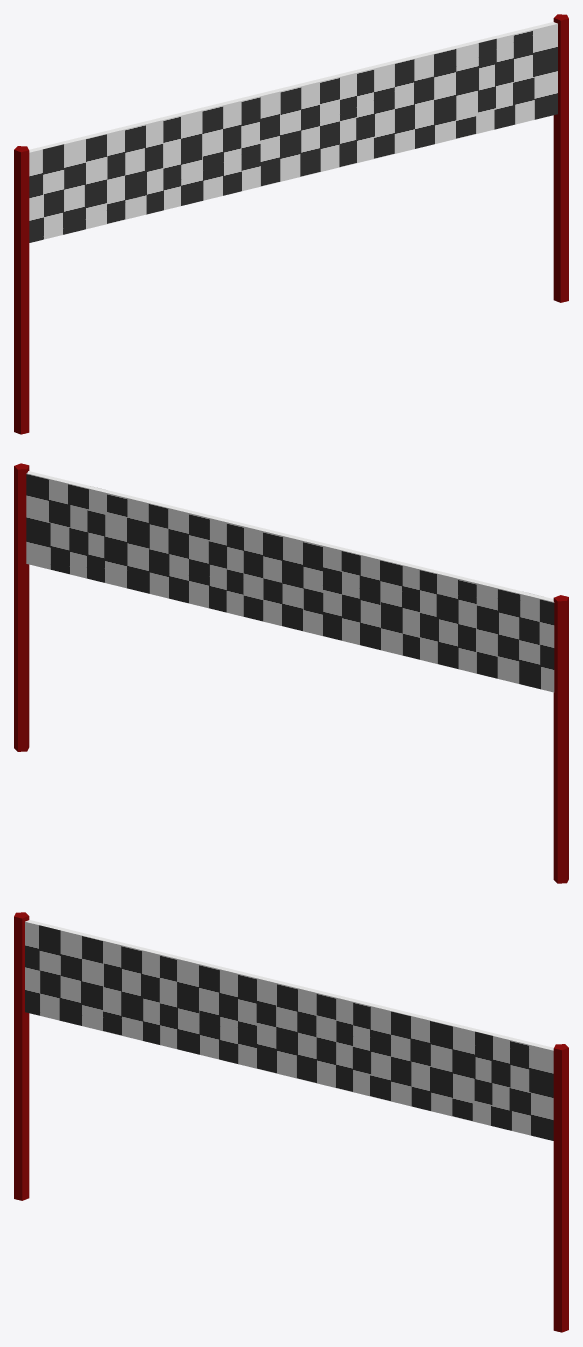
Rendered from goalFalg.obj.
The picture shows the model from 3 angles, top to bottom: view 1: azimuth 30°, elevation 25°; view 2: azimuth 150°, elevation 25°; view 3: azimuth 330°, elevation 25°; orthographic projection.
Visible parts, largest first — view 1: 立方体; view 2: 立方体; view 3: 立方体.
Part boxes in pixels (x1=…): 立方体: x1=14, y1=14, x2=568, y2=434; 立方体: x1=14, y1=463, x2=568, y2=883; 立方体: x1=14, y1=912, x2=568, y2=1332.
Bounding box in the file's own units: 8.2 × 4 × 0.1865.
Materials: 1 (1 with a texture image).
